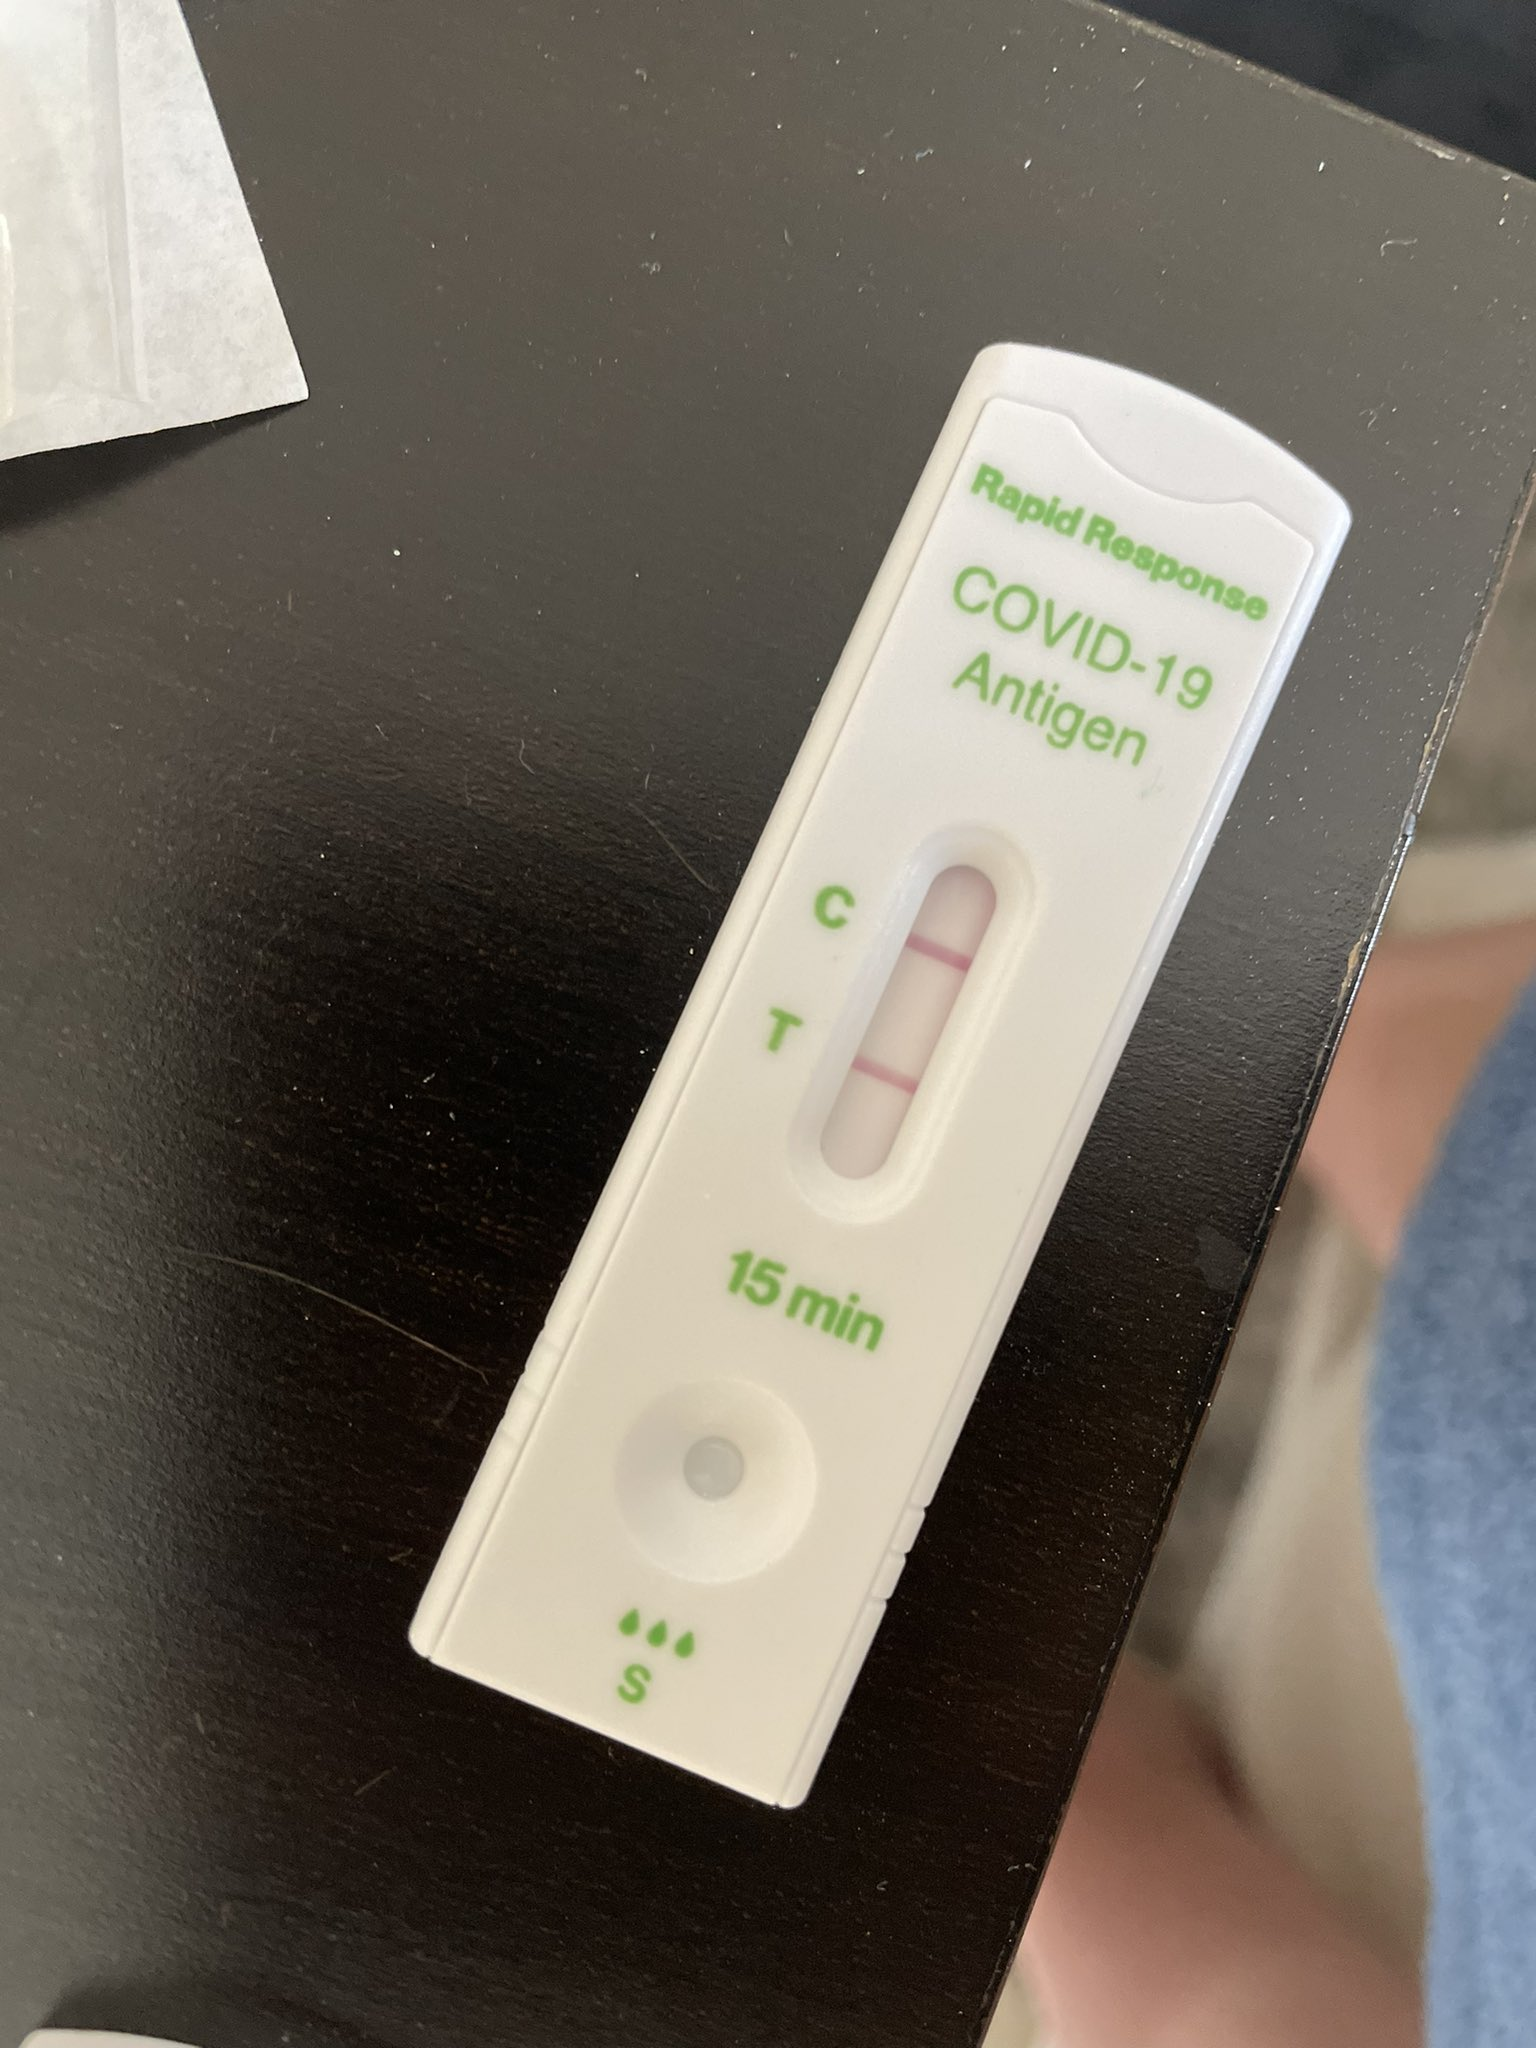positive: (855, 843, 981, 1190)
